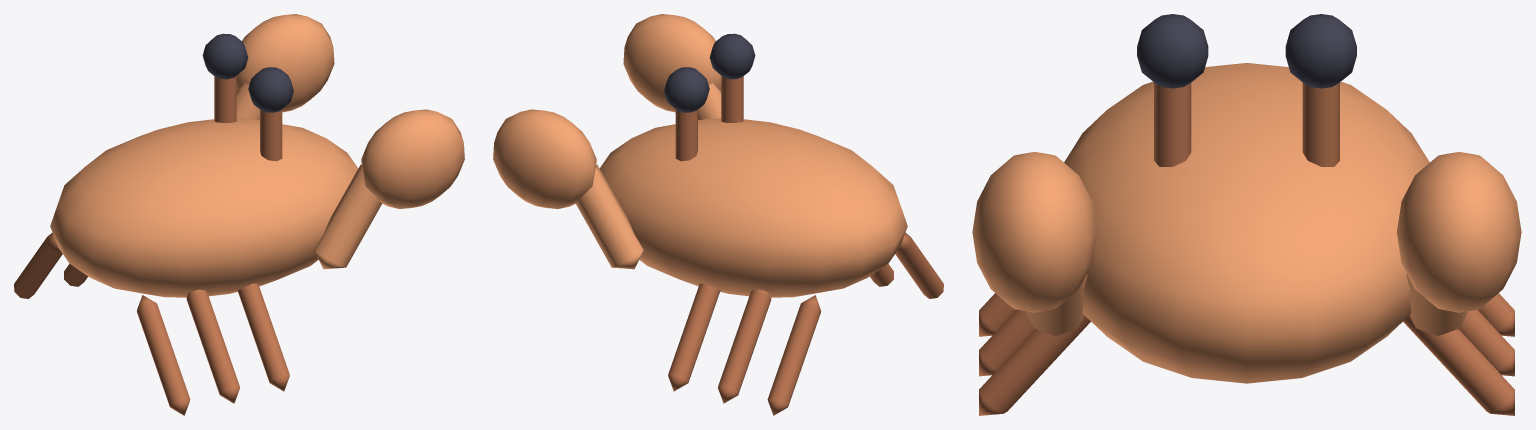
The model's file is crab.glb.
The picture shows the model from 3 angles, left to right: view 1: azimuth 30°, elevation 25°; view 2: azimuth 150°, elevation 25°; view 3: azimuth 270°, elevation 25°; orthographic projection. The views are drawn at different scales.
Parts seen in each view (by area): view 1: Shell, ClawLeft, ClawRight, ArmLeft, LegLeft2, LegLeft1, LegLeft0, EyeLeft, EyeRight, LegRight2, EyeStalkLeft, EyeStalkRight (+1 smaller); view 2: Shell, ClawRight, ClawLeft, ArmRight, LegRight2, LegRight1, LegRight0, EyeRight, EyeLeft, LegLeft2, EyeStalkRight, EyeStalkLeft (+1 smaller); view 3: Shell, ClawLeft, ClawRight, EyeLeft, EyeRight, LegLeft0, LegRight0, EyeStalkLeft, EyeStalkRight, LegLeft1, LegRight1, ArmLeft (+3 smaller).
Boxes of the visible parts, x1,y1,x2,y2 form: Shell: [50, 118, 358, 297]; ClawLeft: [361, 109, 464, 208]; ClawRight: [236, 14, 334, 112]; ArmLeft: [314, 164, 382, 269]; LegLeft2: [136, 295, 190, 415]; LegLeft1: [186, 289, 239, 403]; LegLeft0: [237, 283, 289, 391]; EyeLeft: [248, 67, 293, 112]; EyeRight: [202, 33, 248, 79]; LegRight2: [14, 232, 62, 298]; EyeStalkLeft: [260, 109, 282, 161]; EyeStalkRight: [214, 76, 236, 122]; Shell: [599, 118, 907, 297]; ClawRight: [493, 109, 596, 208]; ClawLeft: [623, 14, 721, 112]; ArmRight: [575, 164, 643, 269]; LegRight2: [767, 295, 821, 415]; LegRight1: [718, 289, 771, 403]; LegRight0: [668, 283, 720, 391]; EyeRight: [664, 67, 709, 112]; EyeLeft: [709, 33, 755, 79]; LegLeft2: [895, 232, 943, 298]; EyeStalkRight: [675, 109, 697, 161]; EyeStalkLeft: [721, 76, 743, 122]; Shell: [1064, 63, 1429, 383]; ClawLeft: [972, 152, 1097, 312]; ClawRight: [1396, 152, 1521, 312]; EyeLeft: [1137, 14, 1208, 88]; EyeRight: [1285, 14, 1356, 88]; LegLeft0: [979, 315, 1090, 415]; LegRight0: [1403, 315, 1514, 415]; EyeStalkLeft: [1154, 82, 1191, 166]; EyeStalkRight: [1302, 82, 1339, 166]; LegLeft1: [979, 309, 1034, 376]; LegRight1: [1459, 309, 1514, 376]; ArmLeft: [1026, 273, 1087, 335].
Bounding box in the file's own units: 1.01 × 0.77 × 0.88.
